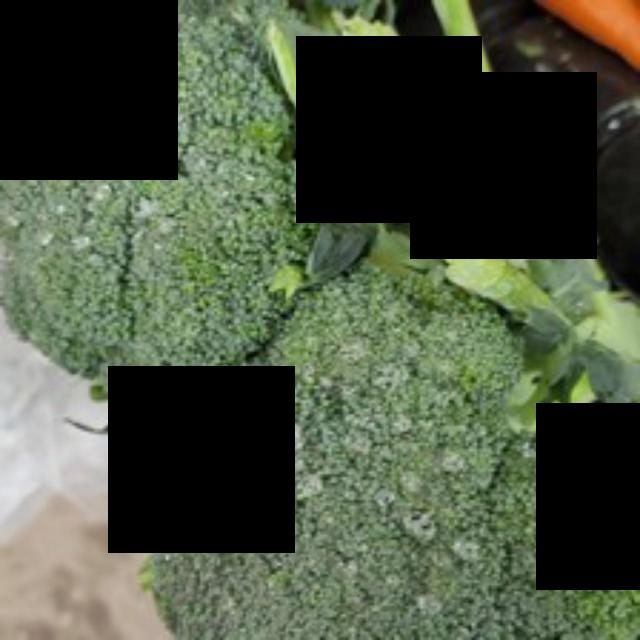broccoli: (114, 231, 637, 637)
